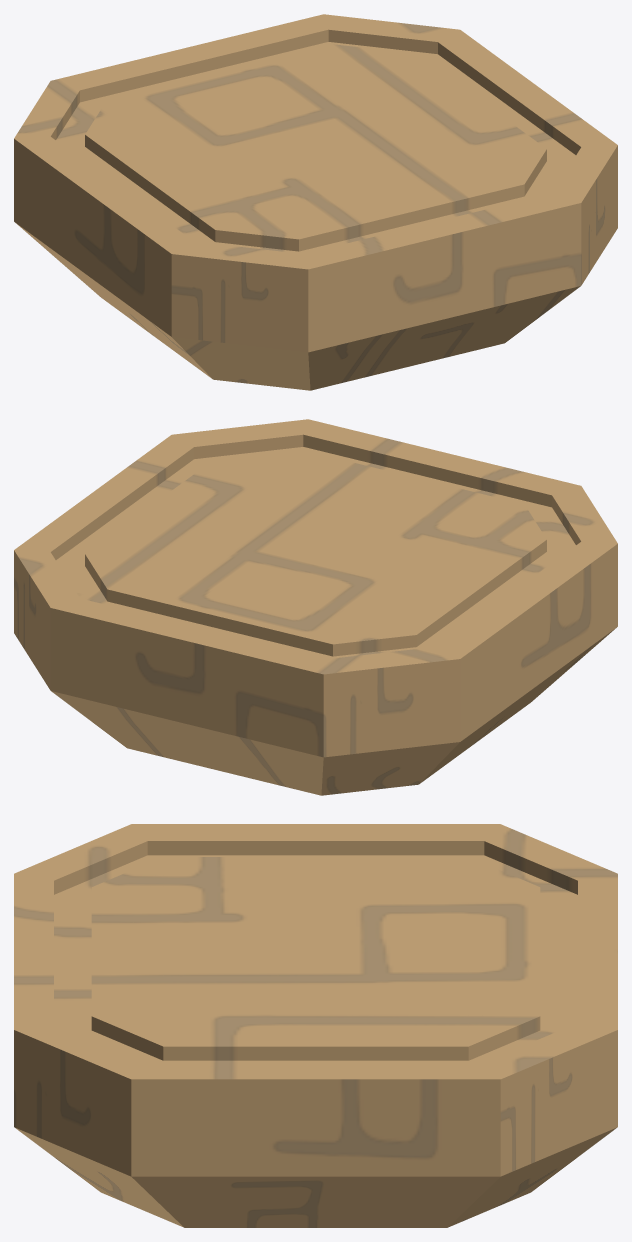
Rendered from Mesh_FloatingPlatformSmall.glb.
3 renders of one model, top to bottom at view 1: azimuth 30°, elevation 25°; view 2: azimuth 150°, elevation 25°; view 3: azimuth 270°, elevation 25°, orthographic. The views are drawn at different scales.
Visible parts, largest first — view 1: Cube.053; view 2: Cube.053; view 3: Cube.053.
Part boxes in pixels (x1,y1,x2,y2): Cube.053: [14, 14, 617, 390]; Cube.053: [14, 419, 617, 795]; Cube.053: [14, 824, 617, 1227].
Size of the model in its own units: 11.26 by 3.81 by 11.26.
1 material, 1 textured.
